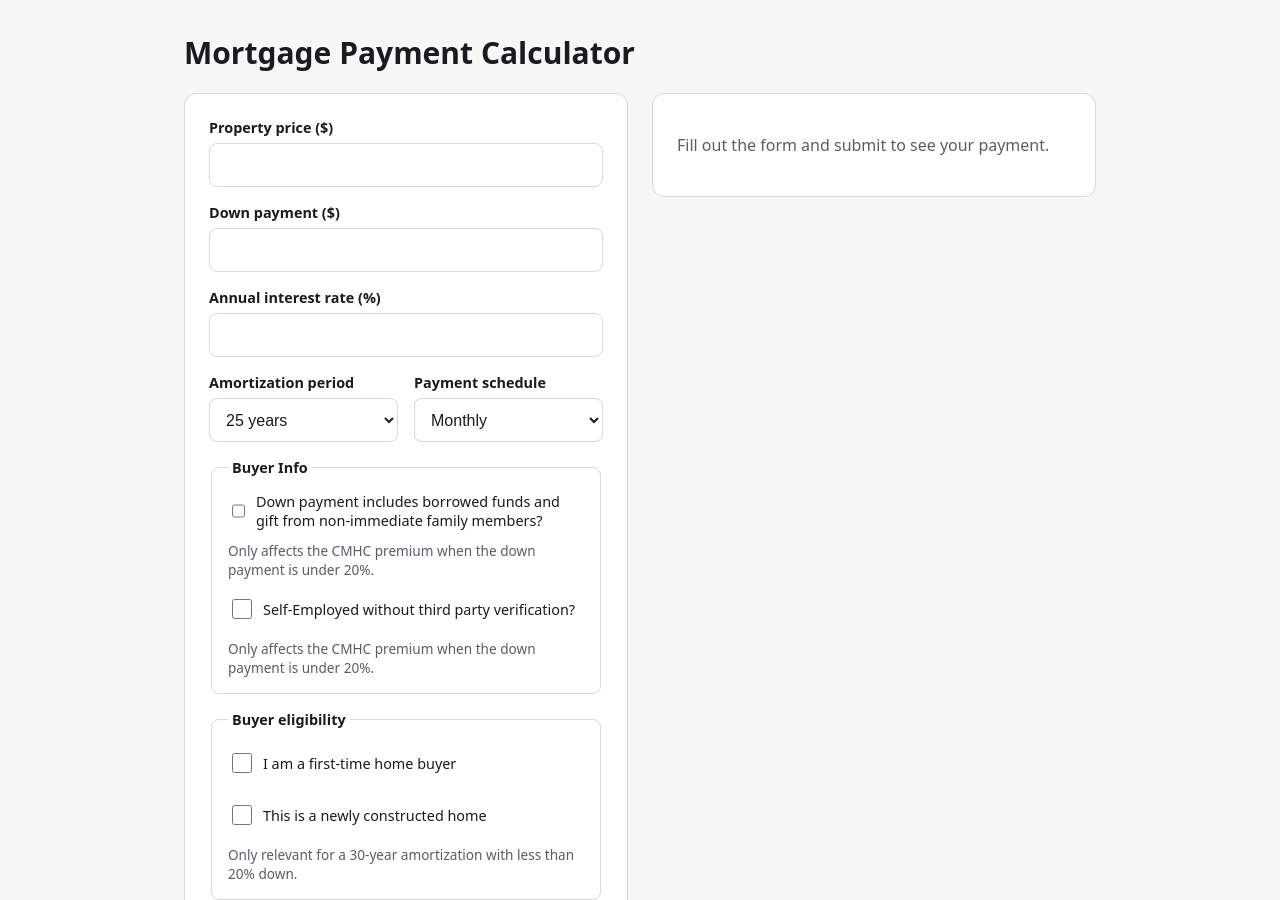
it: App › submits the form and shows the payment on success (uninsured)
This screenshot has width=1280, height=900.
In the field labelled "Property price ($)": [406, 165] box [209,143,603,187], type "500000"
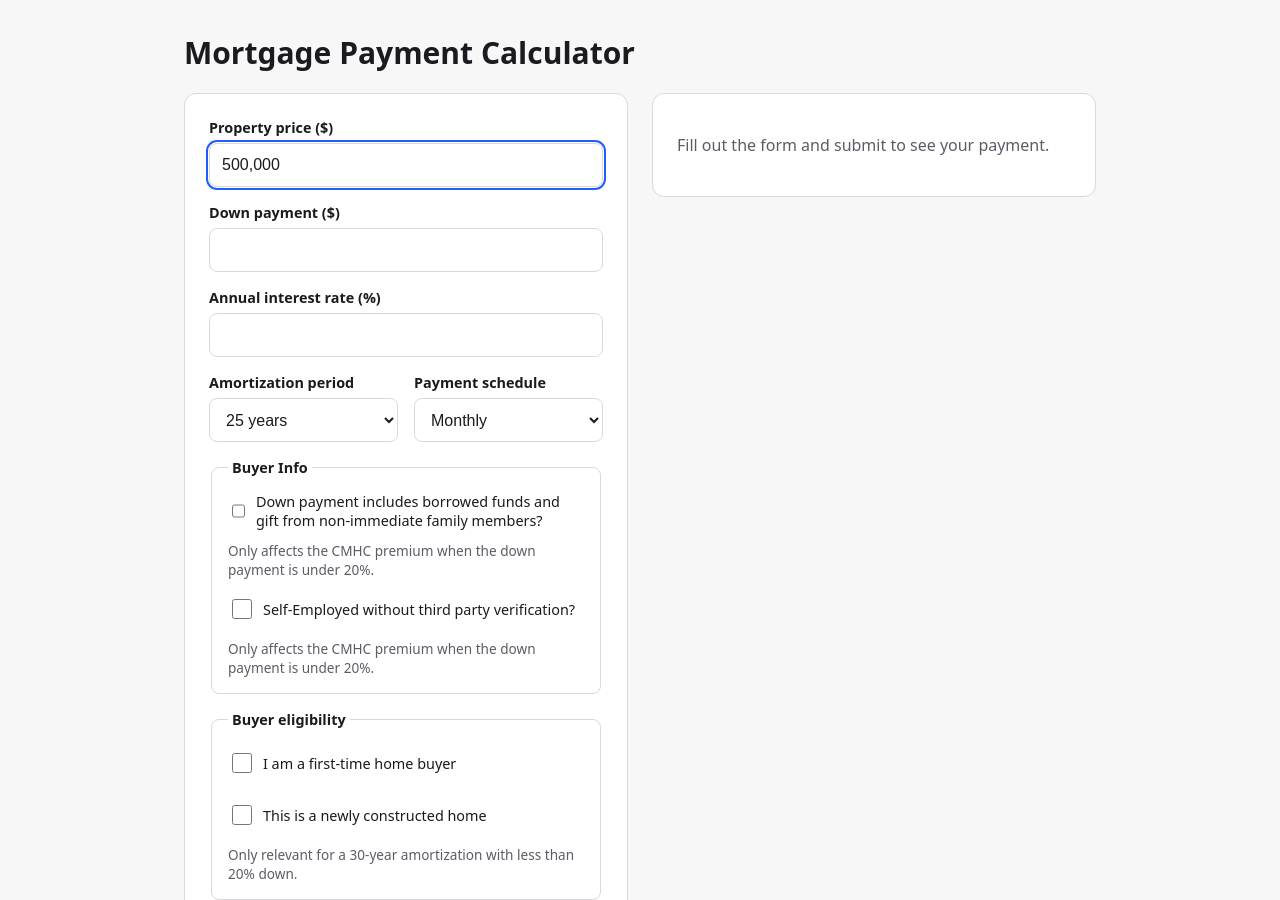
In the field labelled "Down payment ($)": [406, 250] box [209,228,603,272], type "100000"
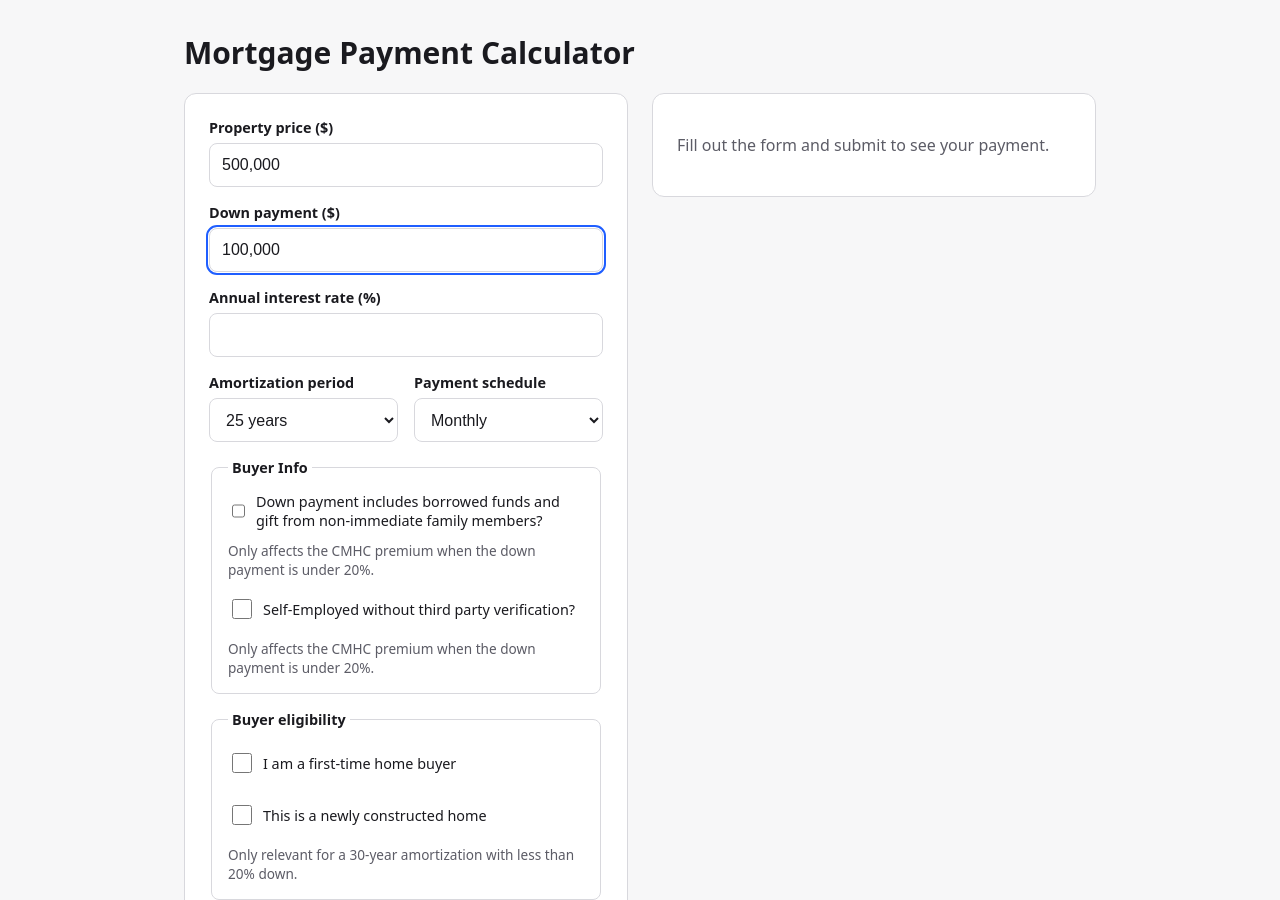
In the number field labelled "Annual interest rate (%)": [406, 335] box [209,313,603,357], type "5"
(page scrolled)
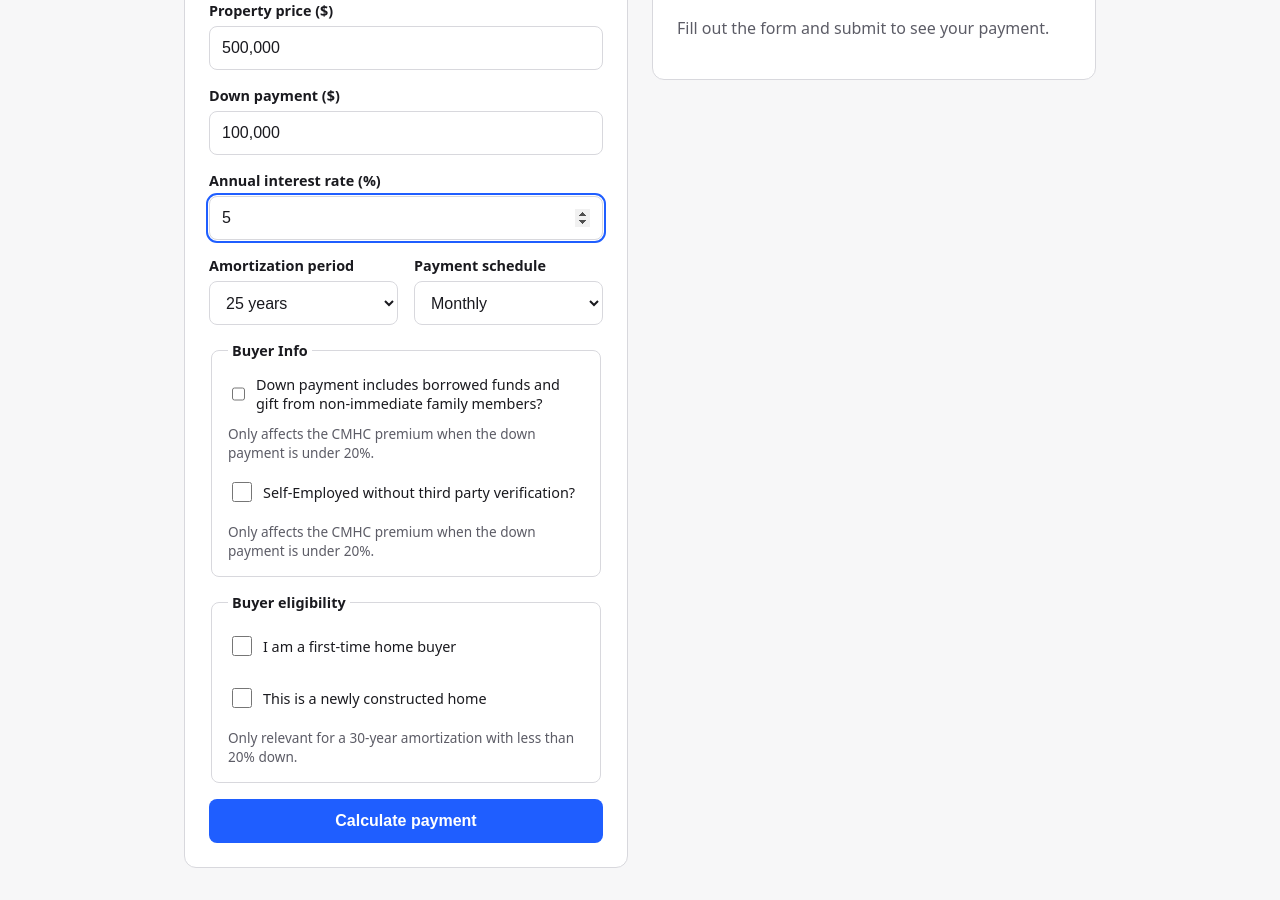
Click the button "Calculate payment": [406, 821] box [209,799,603,843]
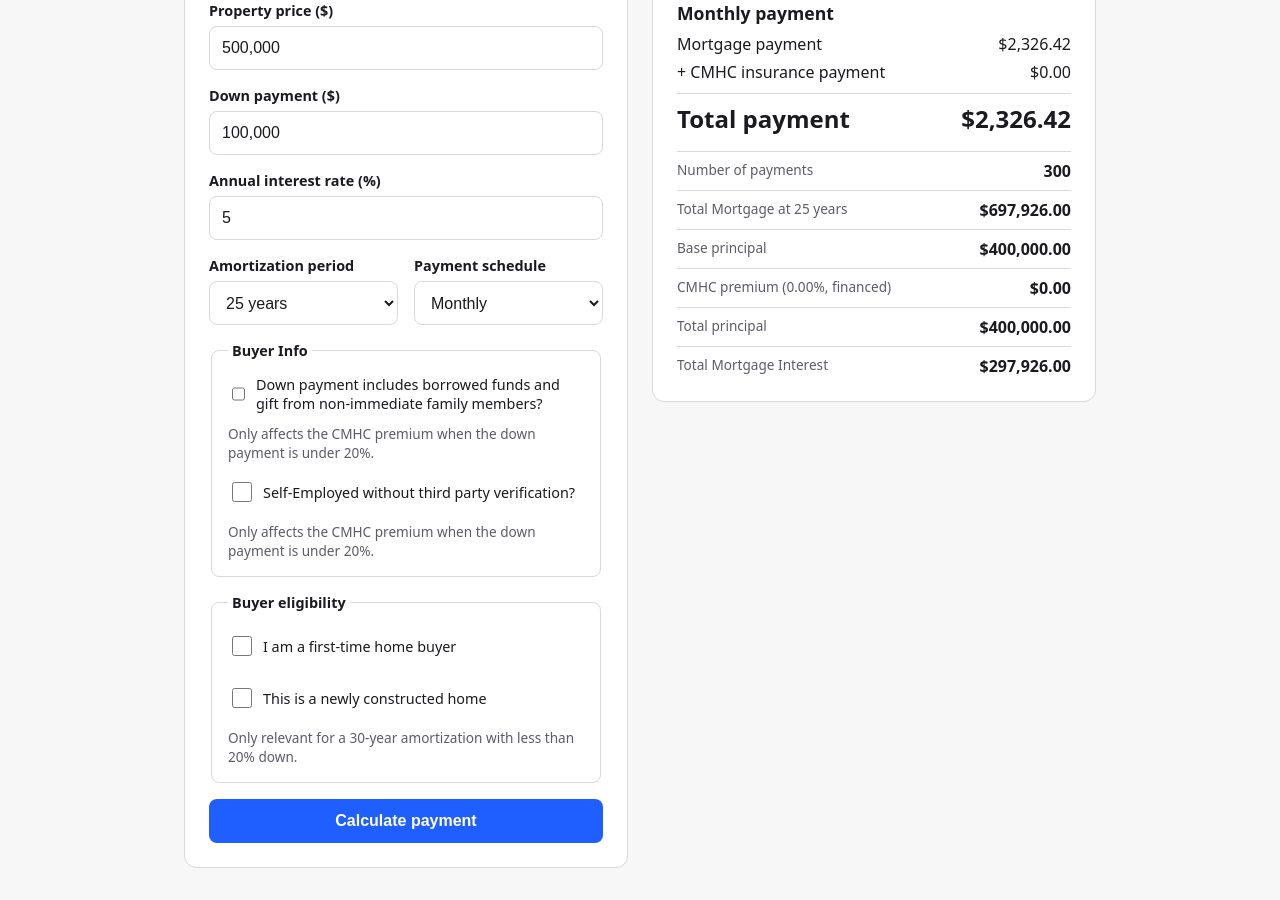
Now the 1st text "$2,326.42" is shown, box [998,33,1071,55]
Now the text "+ CMHC insurance payment" is shown, box [677,61,885,83]
Now the text "$0.00" is shown 2 times, box [1030,61,1071,83]; [1030,277,1071,299]
